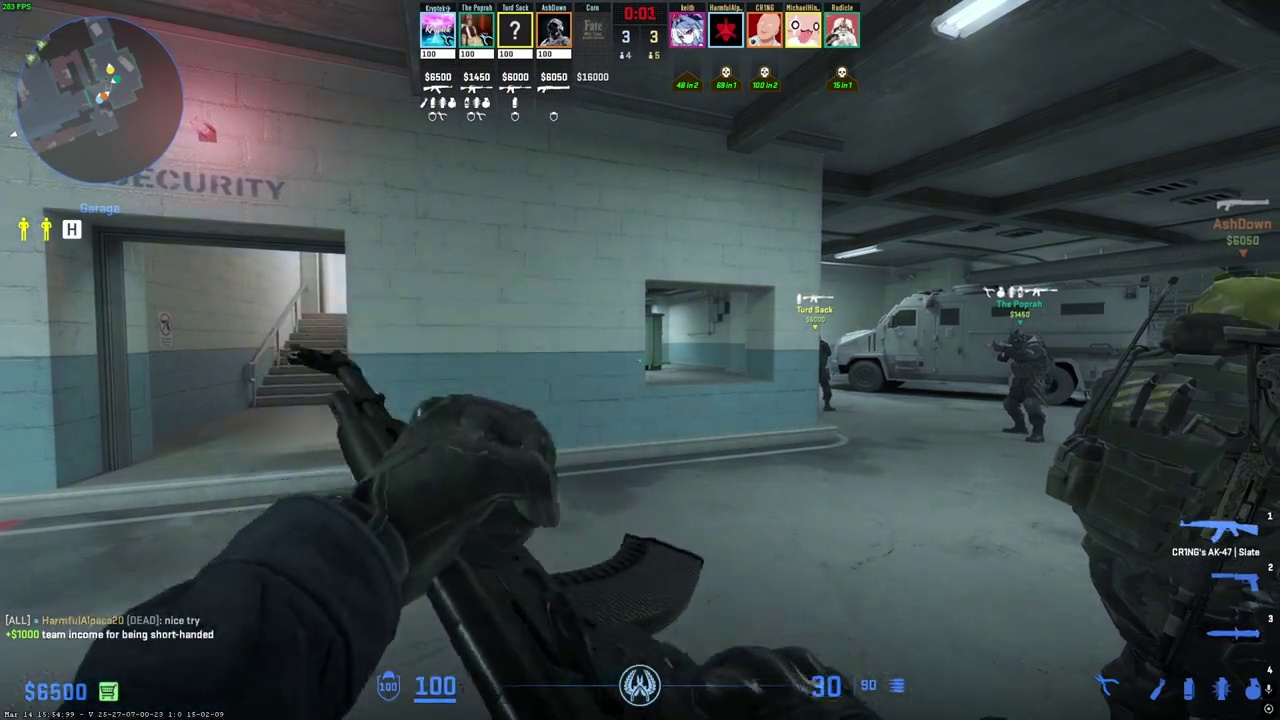CT: (1062, 269, 1280, 720), (999, 329, 1051, 442), (817, 336, 835, 412)
